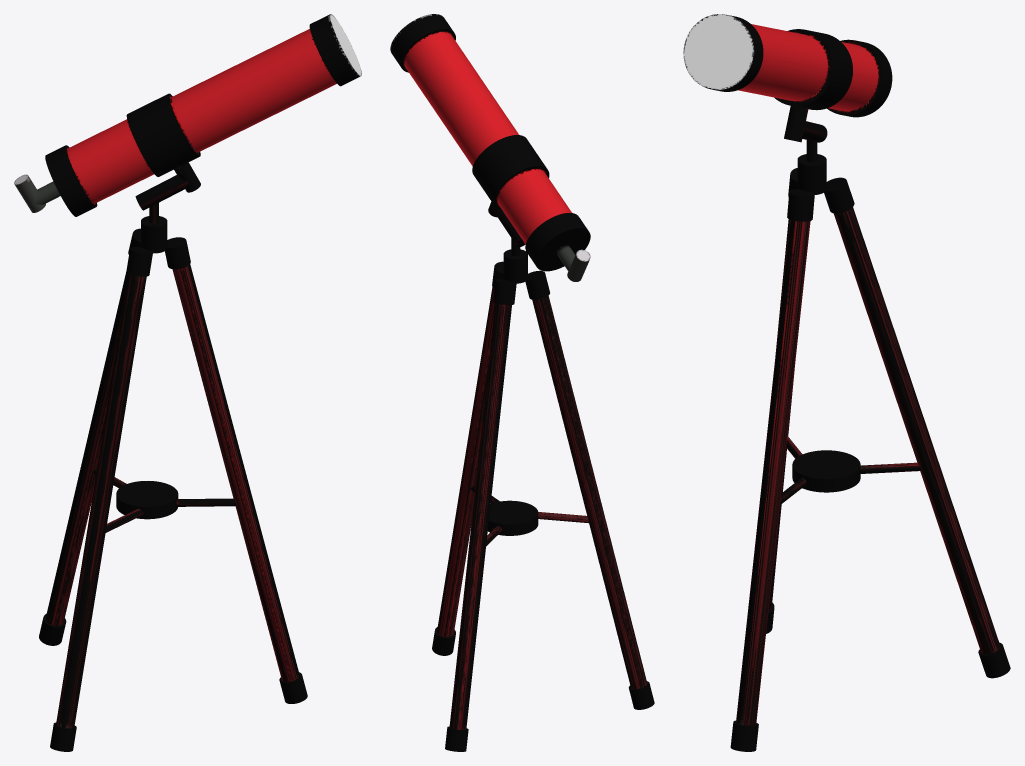
File: Telescope.glb
3 views of the same model, side by side, from view 1: azimuth 30°, elevation 25°; view 2: azimuth 150°, elevation 25°; view 3: azimuth 270°, elevation 25° (orthographic). The views are drawn at different scales.
Parts seen in each view (by area): view 1: node_id33, node_id37, node_id35, node_id41, node_id39; view 2: node_id33, node_id37, node_id35, node_id41; view 3: node_id33, node_id35, node_id37, node_id39, node_id41.
Boxes of the visible parts, x1,y1,x2,y2 form: node_id33: (15,162,299,728); node_id37: (67,29,336,203); node_id35: (39,14,360,751); node_id41: (116,481,178,519); node_id39: (14,14,361,184); node_id33: (437,201,647,729); node_id37: (404,31,571,244); node_id35: (390,14,654,751); node_id41: (488,500,538,535); node_id33: (736,106,1000,725); node_id35: (713,15,1010,751); node_id37: (738,24,878,111); node_id39: (683,14,753,89); node_id41: (792,450,860,492).
Bounding box in the file's own units: 0.2305 × 0.512 × 0.2022.
5 materials, 5 textured.
